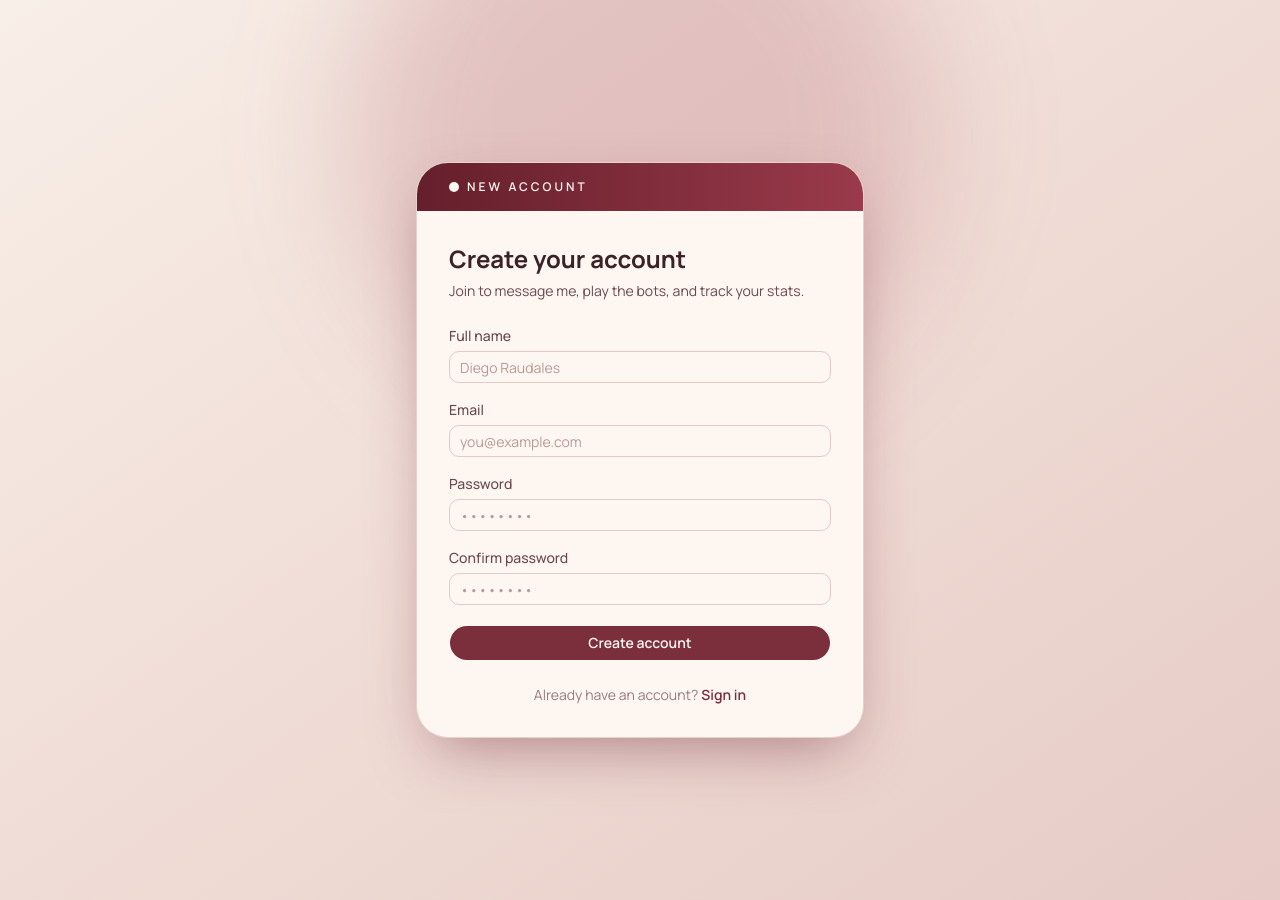
Test: RegisterPage › shows backend validation errors beside the matching field
This screenshot has width=1280, height=900.
Type "  Diego Raudales  " into the field labelled "Full name" at [640, 367], box [449,351,831,383]
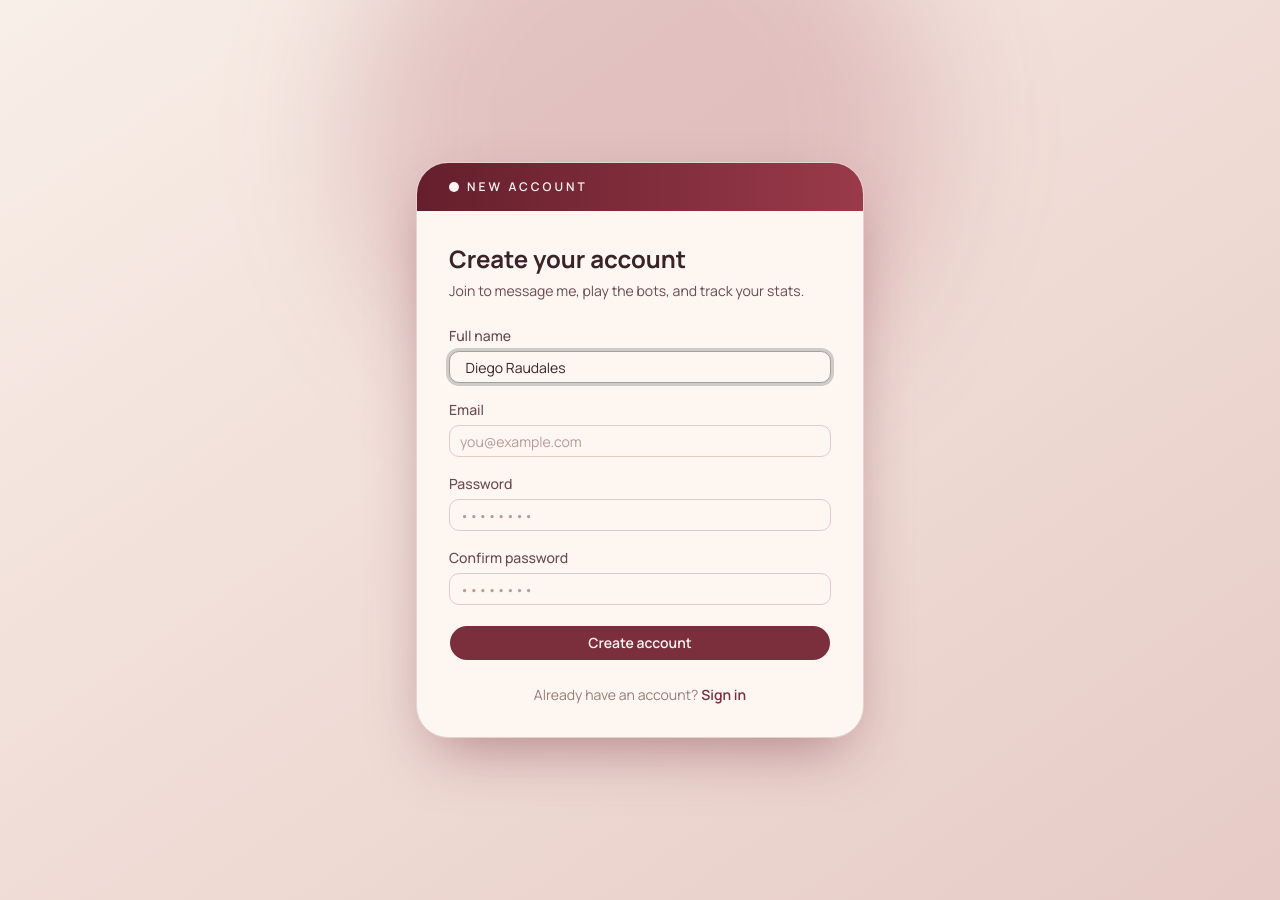
Type "  Diego@Example.com  " into the field labelled "Email" at [640, 441], box [449,425,831,457]
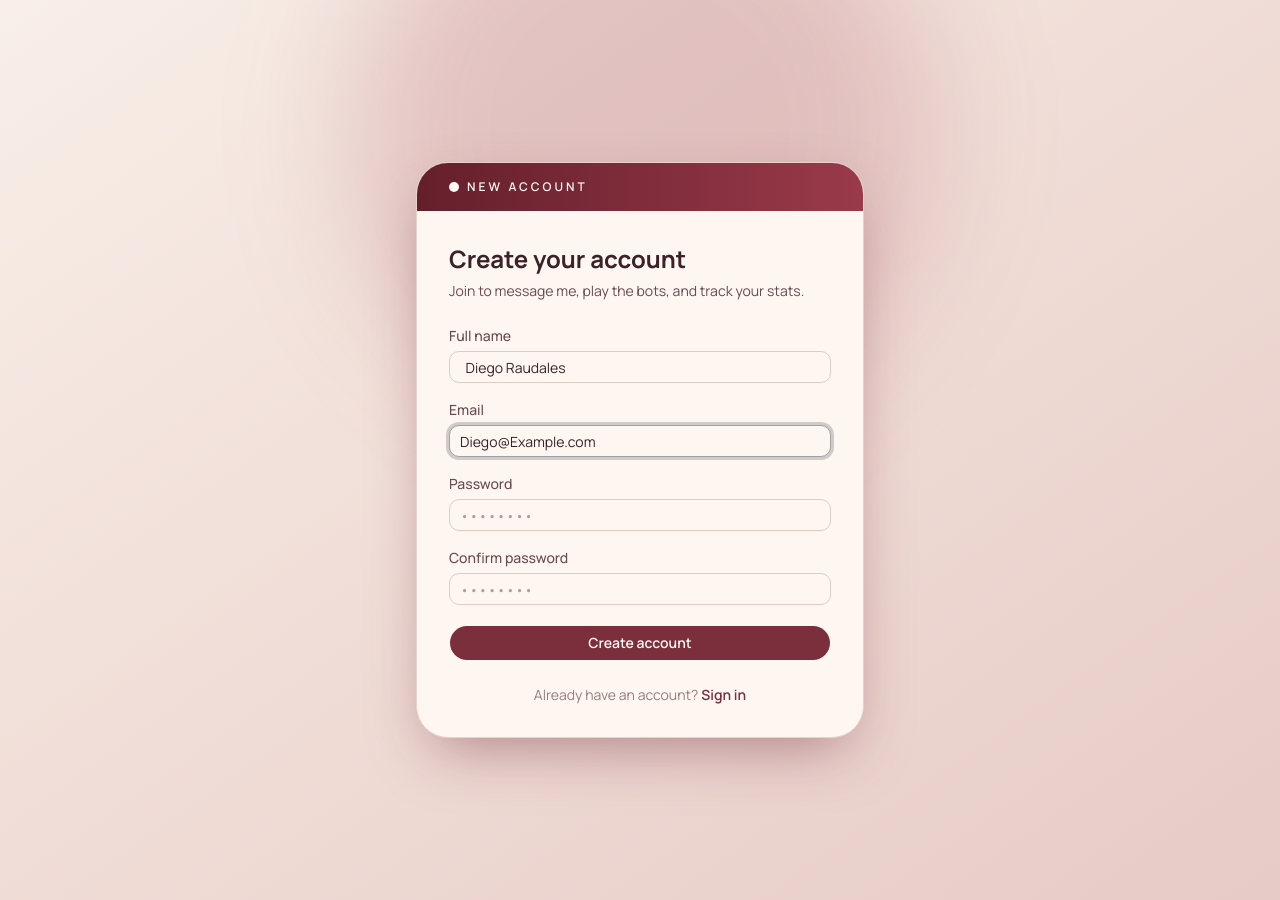
Type "password123" into the password field labelled "Password" at [640, 515], box [449,499,831,531]
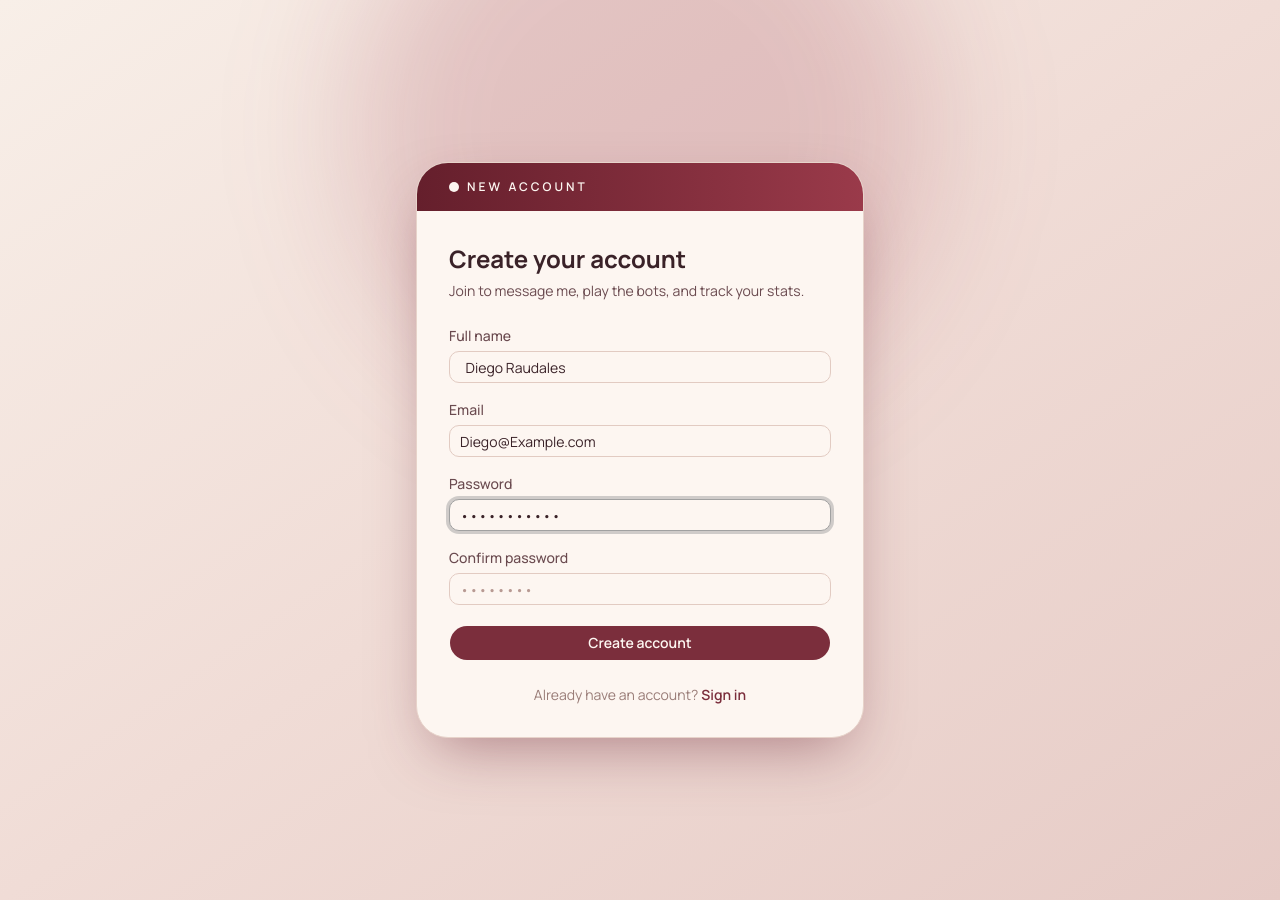
Type "password123" into the password field labelled "Confirm password" at [640, 589], box [449,573,831,605]
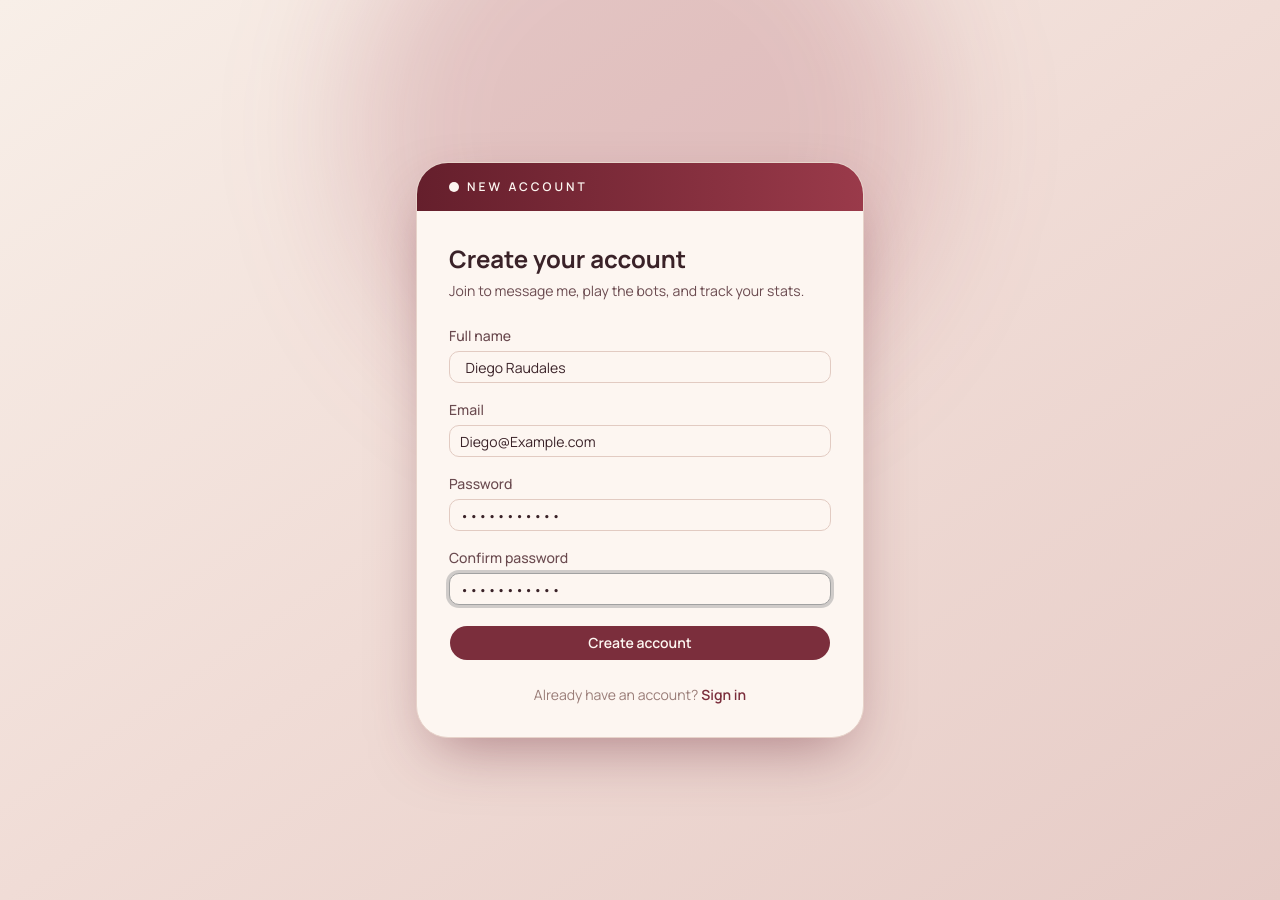
Click the button "Create account" at [640, 643], box [449,625,831,661]
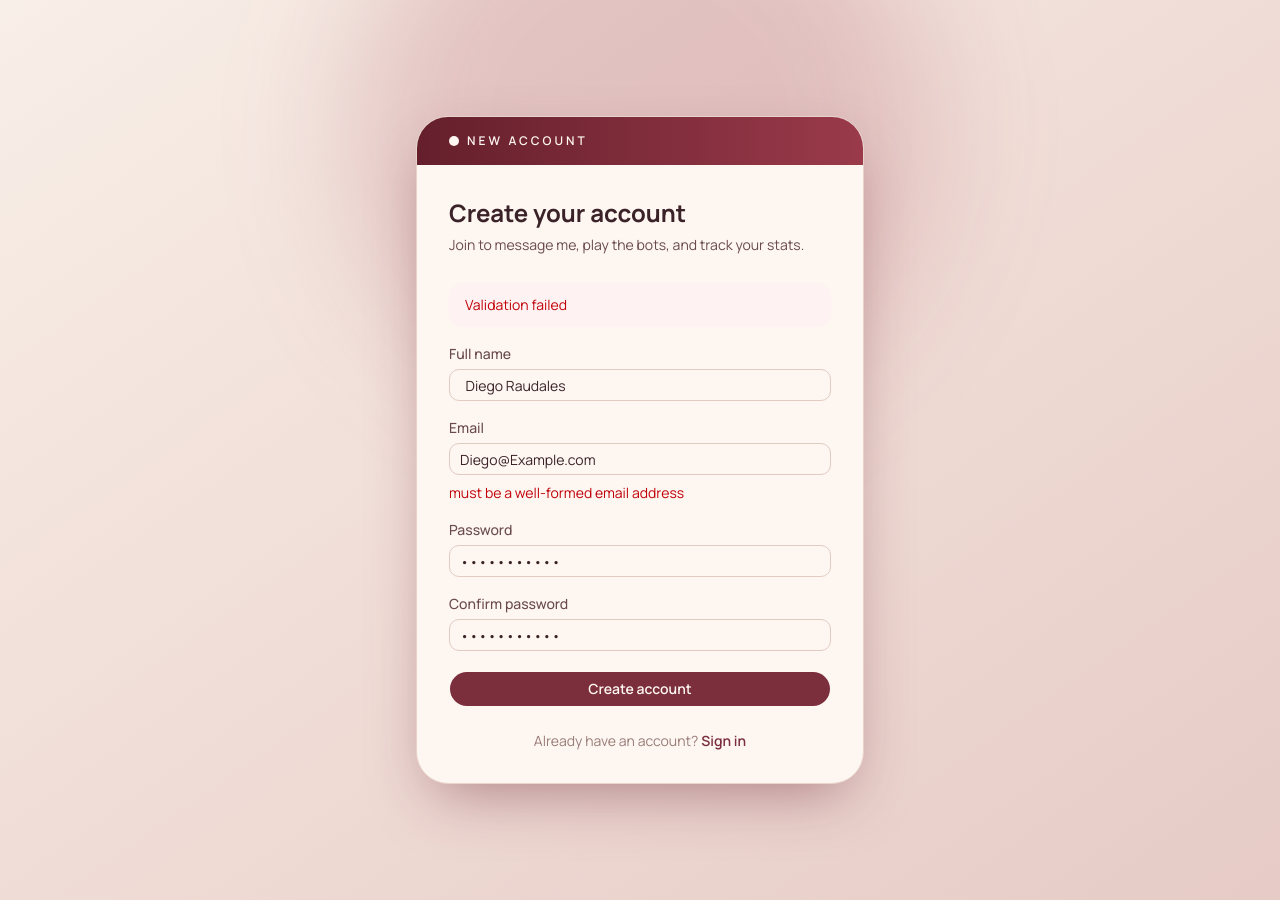
Now the text "Validation failed" is shown, box [449,283,831,327]
Now the text "must be a well-formed email address" is shown, box [449,483,684,502]
